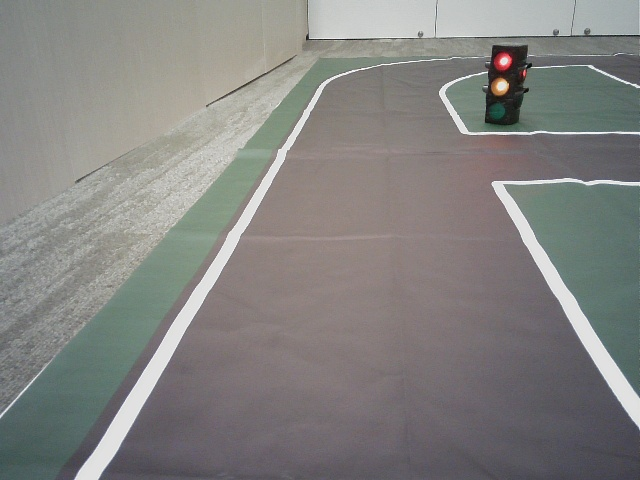red: (489, 46, 511, 119)
